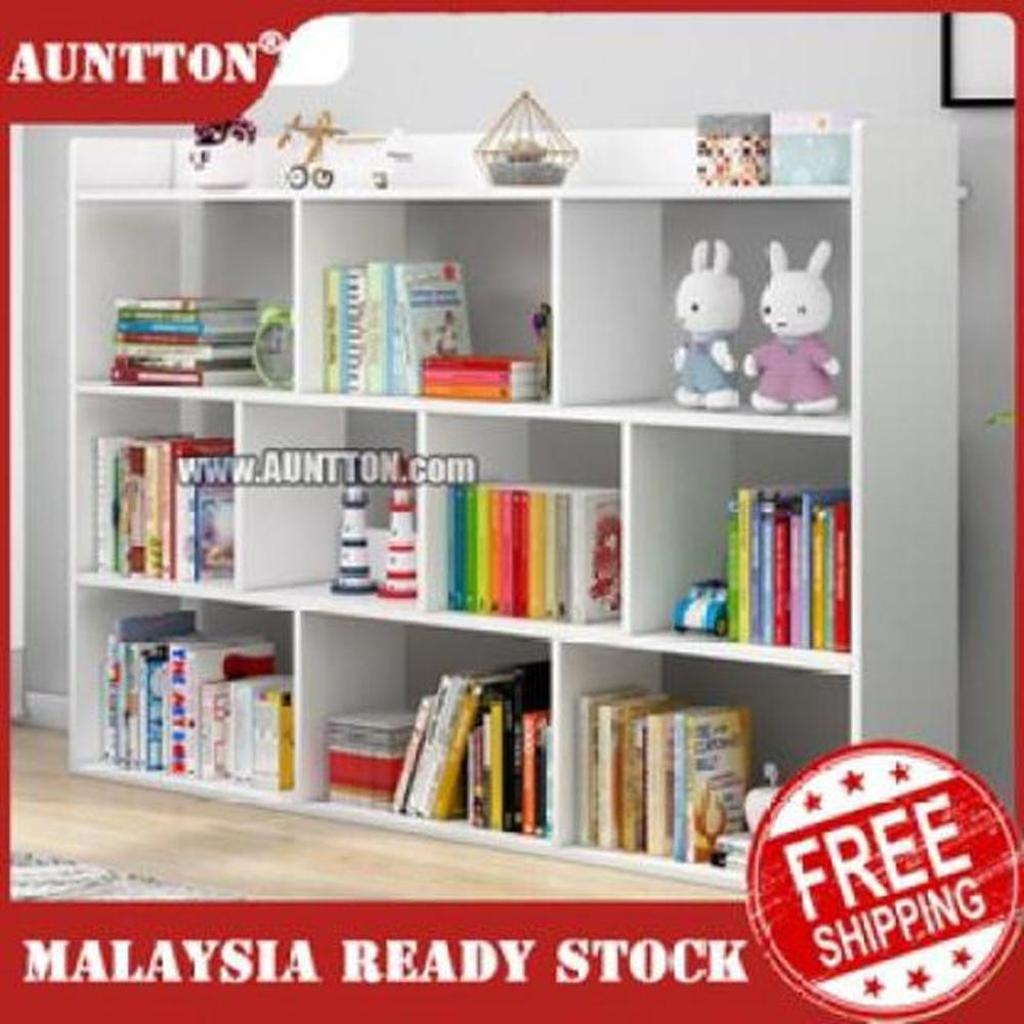lamp: (63, 114, 964, 919)
